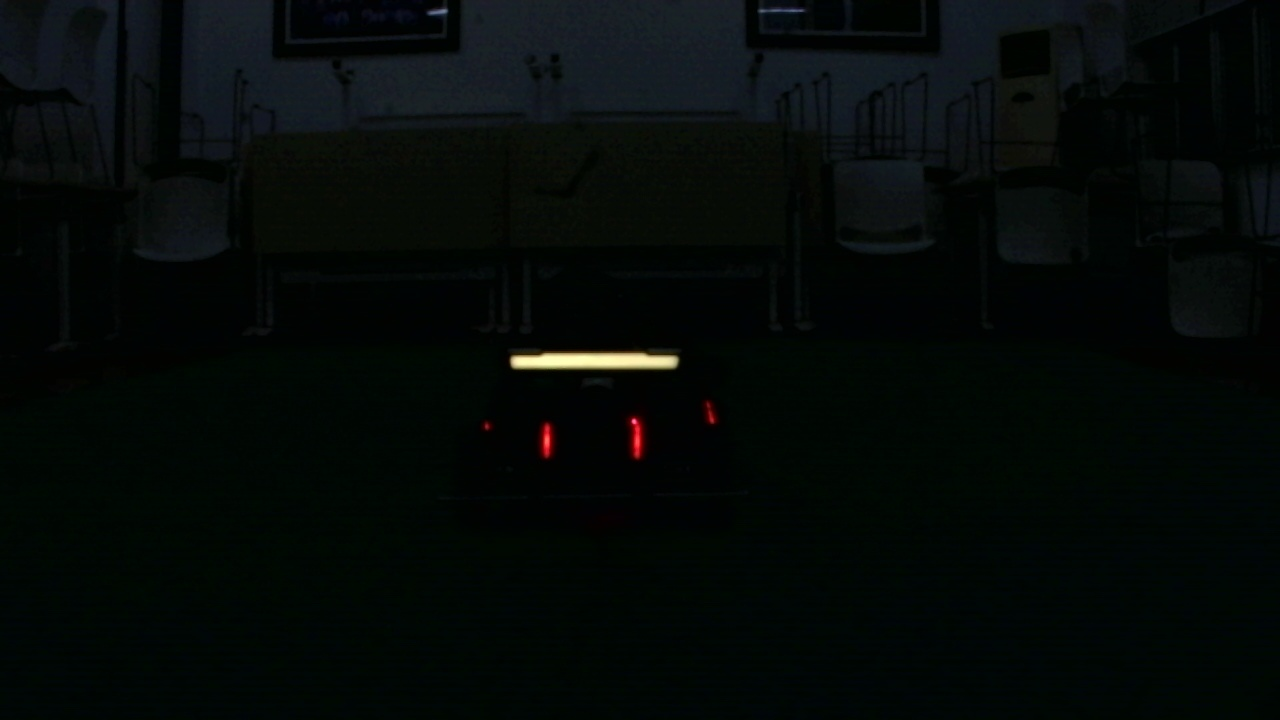lamp: (630, 419, 647, 458), (699, 398, 719, 427), (540, 423, 556, 457)
pair1: (541, 420, 647, 456)
